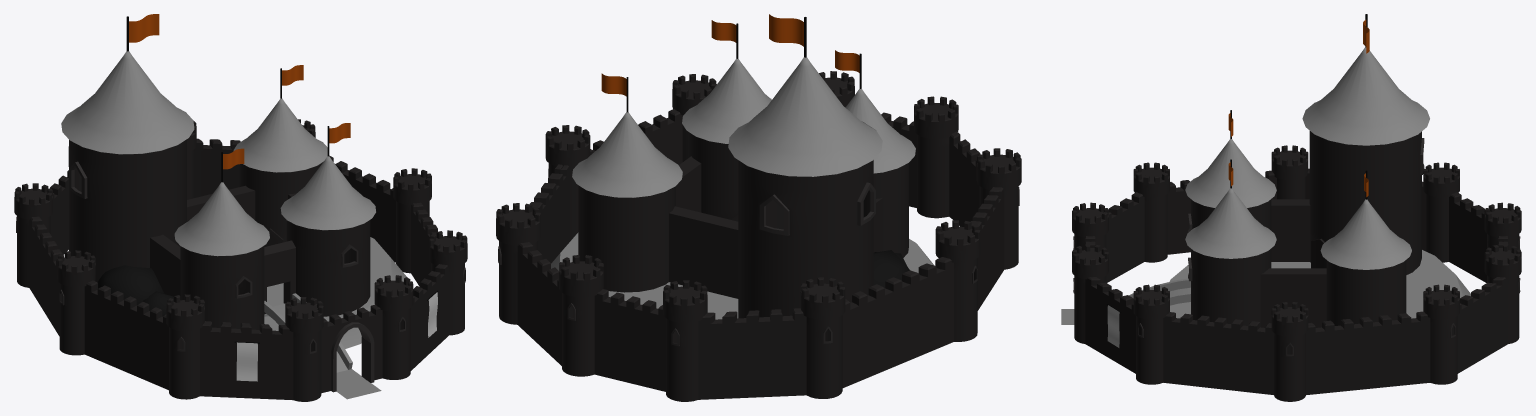
File: Wk05_Castle.obj
3 renders of one model, left to right at view 1: azimuth 30°, elevation 25°; view 2: azimuth 150°, elevation 25°; view 3: azimuth 270°, elevation 25°, orthographic. The views are drawn at different scales.
Visible parts, largest first — view 1: polySurface11, g_middle_towers1 polySurface15, pCylinder1, g_middle_towers1 polySurface31, g_middle_towers1 polySurface14, g_middle_towers1 polySurface23, g_middle_towers1 polySurface28, g_middle_towers1 polySurface22, pCone1, pCube6, pCube4 pCube2, nurbsToPoly5 (+5 smaller); view 2: polySurface11, pCylinder1, g_middle_towers1 polySurface31, g_middle_towers1 polySurface22, g_middle_towers1 polySurface15, g_middle_towers1 polySurface28, g_inside_back_wall, g_middle_towers1 polySurface14, g_middle_towers1 polySurface23, pCone1, pCube5, pCube6 (+4 smaller); view 3: polySurface11, pCylinder1, g_middle_towers1 polySurface31, g_middle_towers1 polySurface15, g_middle_towers1 polySurface22, g_middle_towers1 polySurface28, g_middle_towers1 polySurface14, g_middle_towers1 polySurface23, pCube5, pCone1, pCube4 pCube2, g_bridge (+1 smaller).
Part boxes in pixels (left/top/right/bottom): polySurface11: left=14, top=119, right=467, bottom=401; g_middle_towers1 polySurface15: left=180, top=220, right=370, bottom=329; pCylinder1: left=69, top=139, right=186, bottom=281; g_middle_towers1 polySurface31: left=61, top=51, right=194, bottom=154; g_middle_towers1 polySurface14: left=280, top=156, right=375, bottom=230; g_middle_towers1 polySurface23: left=174, top=182, right=269, bottom=256; g_middle_towers1 polySurface28: left=233, top=98, right=327, bottom=172; g_middle_towers1 polySurface22: left=239, top=162, right=322, bottom=246; pCone1: left=264, top=237, right=407, bottom=348; pCube6: left=97, top=265, right=164, bottom=305; pCube4 pCube2: left=150, top=234, right=180, bottom=299; nurbsToPoly5: left=331, top=322, right=374, bottom=392; polySurface11: left=496, top=71, right=1021, bottom=401; pCylinder1: left=738, top=160, right=875, bottom=318; g_middle_towers1 polySurface31: left=728, top=57, right=882, bottom=176; g_middle_towers1 polySurface22: left=578, top=185, right=675, bottom=292; g_middle_towers1 polySurface15: left=688, top=132, right=908, bottom=257; g_middle_towers1 polySurface28: left=572, top=112, right=682, bottom=197; g_inside_back_wall: left=669, top=206, right=738, bottom=298; g_middle_towers1 polySurface14: left=682, top=58, right=771, bottom=143; g_middle_towers1 polySurface23: left=845, top=88, right=915, bottom=173; pCone1: left=551, top=232, right=933, bottom=319; pCube5: left=676, top=156, right=701, bottom=212; pCube6: left=873, top=250, right=909, bottom=287; polySurface11: left=1072, top=145, right=1521, bottom=401; pCylinder1: left=1309, top=131, right=1424, bottom=274; g_middle_towers1 polySurface31: left=1302, top=47, right=1429, bottom=145; g_middle_towers1 polySurface15: left=1188, top=199, right=1271, bottom=326; g_middle_towers1 polySurface22: left=1326, top=260, right=1406, bottom=325; g_middle_towers1 polySurface28: left=1320, top=199, right=1411, bottom=269; g_middle_towers1 polySurface14: left=1185, top=188, right=1276, bottom=258; g_middle_towers1 polySurface23: left=1185, top=139, right=1276, bottom=207; pCube5: left=1260, top=268, right=1326, bottom=327; pCone1: left=1169, top=250, right=1470, bottom=318; pCube4 pCube2: left=1271, top=199, right=1310, bottom=261; g_bridge: left=1129, top=278, right=1190, bottom=305.
Size of the model in its own units: 2530 by 1832 by 2863.
